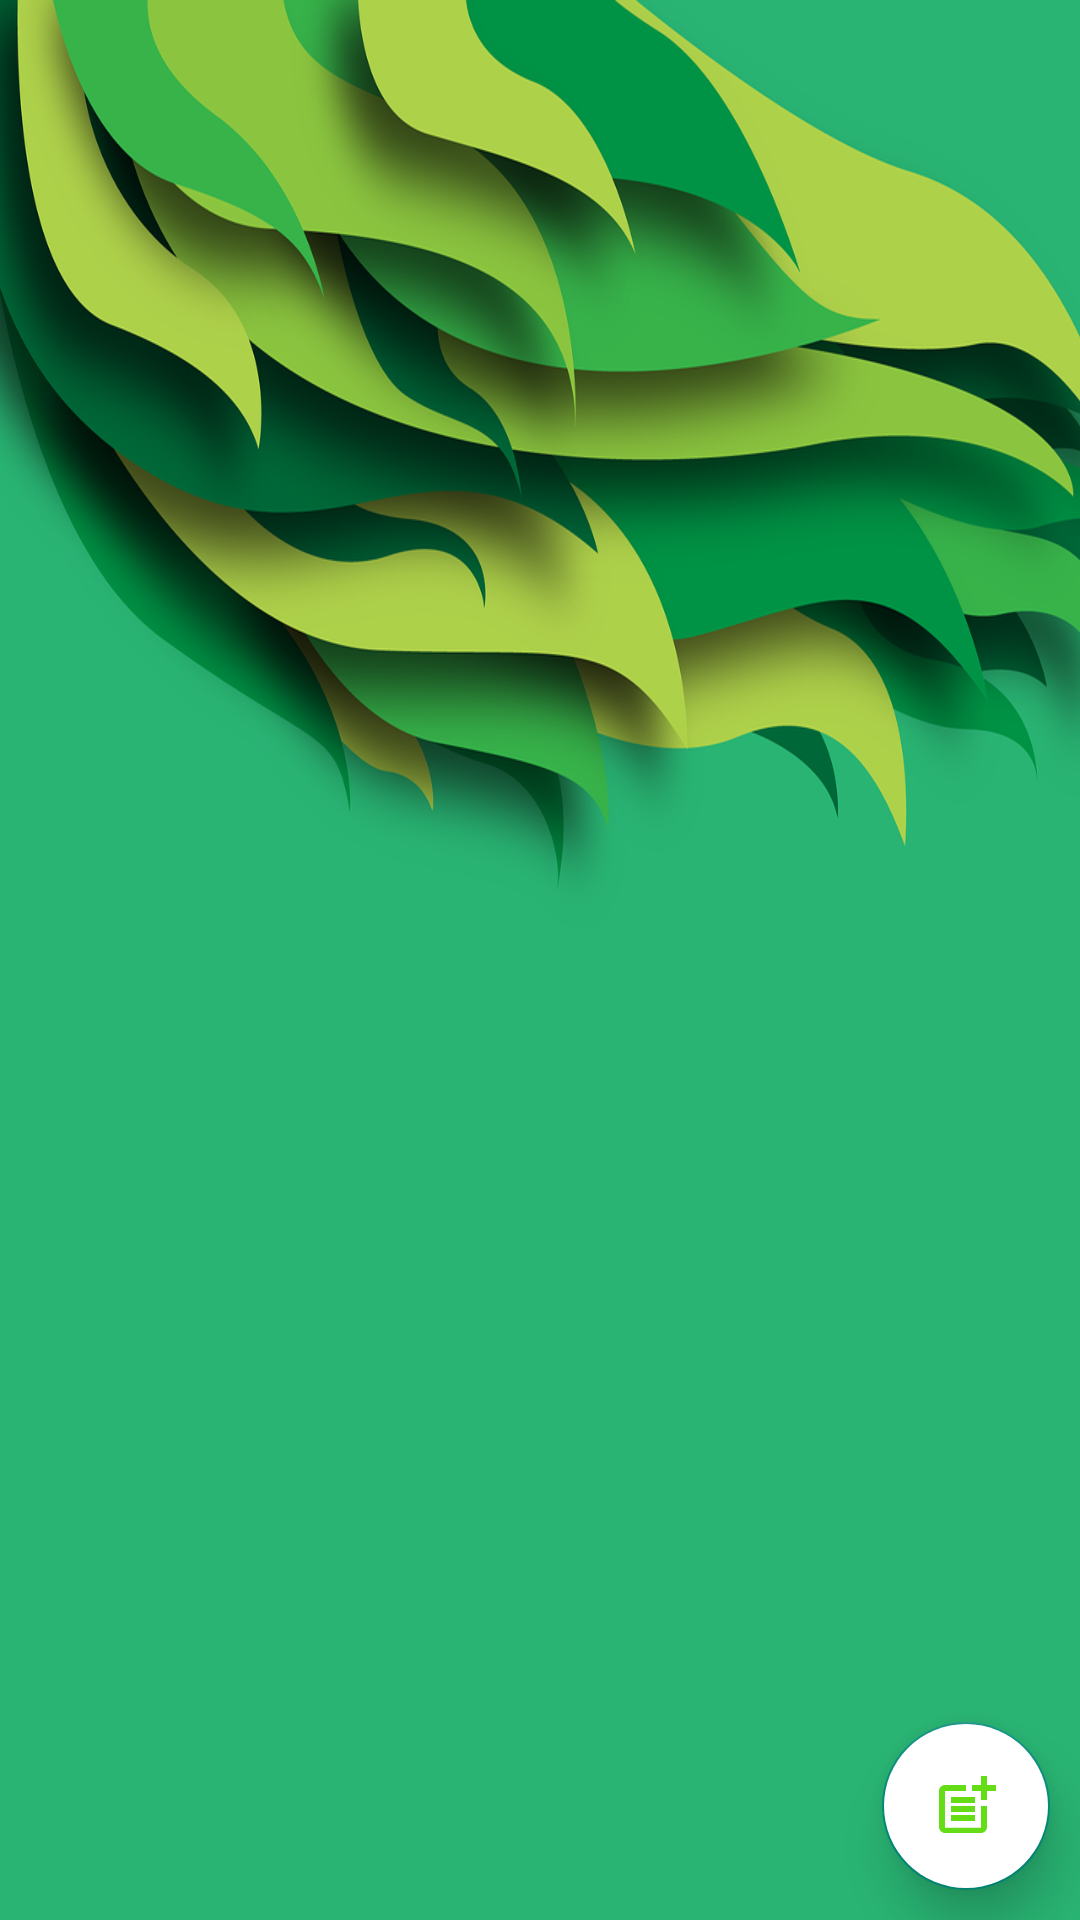

Where icons sit on this 1080×1920 app screen, as (x1, y1, x2, y2):
postadd: (882, 1722, 1050, 1890)
